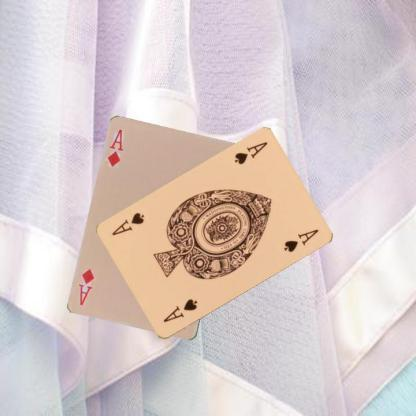Ad: (105, 127, 125, 168)
As: (160, 297, 199, 324), (232, 140, 268, 166)
